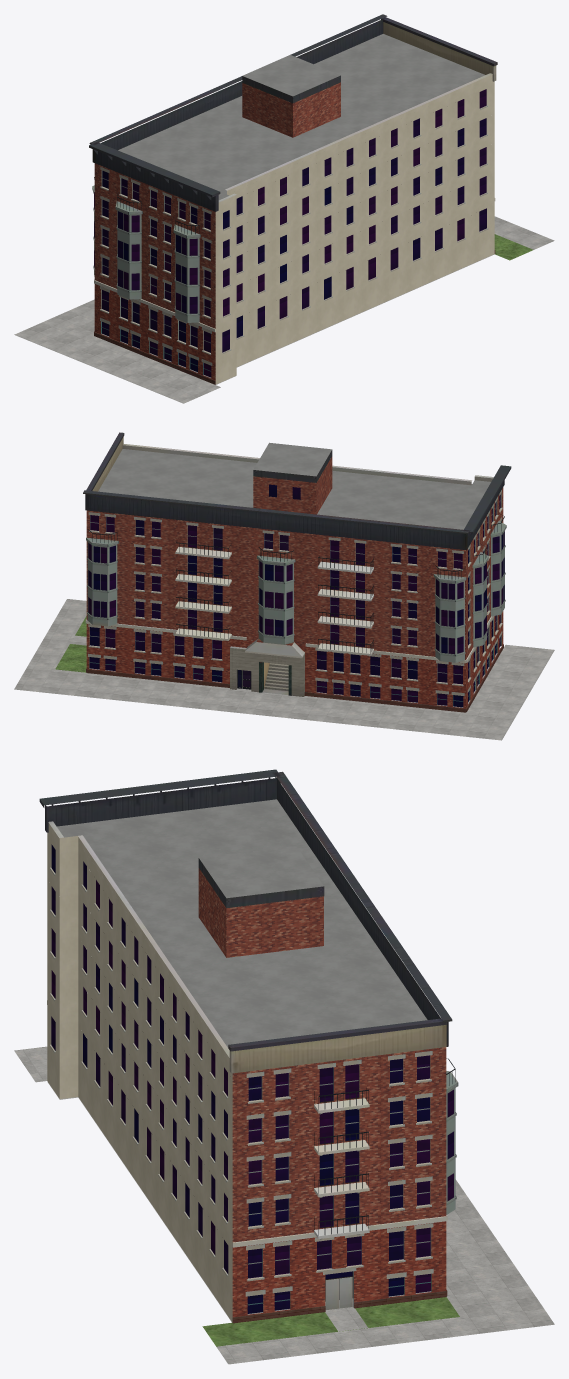
File: sussex-clubhouse.glb
3 renders of one model, top to bottom at view 1: azimuth 30°, elevation 25°; view 2: azimuth 150°, elevation 25°; view 3: azimuth 270°, elevation 25°, orthographic. The views are drawn at different scales.
Visible parts, largest first — view 1: SussexClubhouse_SouthWall, SussexClubhouse_Roof, SussexClubhouse_Trim, SussexClubhouse_Glass, SussexClubhouse_Walls, SussexClubhouse_Paving, SussexClubhouse_Lawn; view 2: SussexClubhouse_Walls, SussexClubhouse_Trim, SussexClubhouse_Paving, SussexClubhouse_Glass, SussexClubhouse_Roof, SussexClubhouse_Lawn; view 3: SussexClubhouse_SouthWall, SussexClubhouse_Roof, SussexClubhouse_Walls, SussexClubhouse_Trim, SussexClubhouse_Glass, SussexClubhouse_Paving, SussexClubhouse_Lawn.
Part boxes in pixels (<box>): SussexClubhouse_SouthWall: <box>215,74,494,384</box>; SussexClubhouse_Roof: <box>118,34,485,200</box>; SussexClubhouse_Trim: <box>89,14,497,384</box>; SussexClubhouse_Glass: <box>94,89,486,377</box>; SussexClubhouse_Walls: <box>94,82,340,380</box>; SussexClubhouse_Paving: <box>14,216,554,403</box>; SussexClubhouse_Lawn: <box>494,234,533,260</box>; SussexClubhouse_Walls: <box>86,456,503,708</box>; SussexClubhouse_Trim: <box>83,432,511,712</box>; SussexClubhouse_Paving: <box>14,599,554,740</box>; SussexClubhouse_Glass: <box>88,484,504,707</box>; SussexClubhouse_Roof: <box>98,442,490,529</box>; SussexClubhouse_Lawn: <box>55,616,86,672</box>; SussexClubhouse_SouthWall: <box>47,823,232,1322</box>; SussexClubhouse_Roof: <box>57,799,427,1047</box>; SussexClubhouse_Walls: <box>198,868,446,1317</box>; SussexClubhouse_Trim: <box>39,769,458,1323</box>; SussexClubhouse_Glass: <box>51,844,453,1313</box>; SussexClubhouse_Paving: <box>14,1046,554,1364</box>; SussexClubhouse_Lawn: <box>202,1297,459,1346</box>.
Bounding box in the file's own units: 53.47 × 22.25 × 34.56.
Materials: 9 (7 with a texture image).
